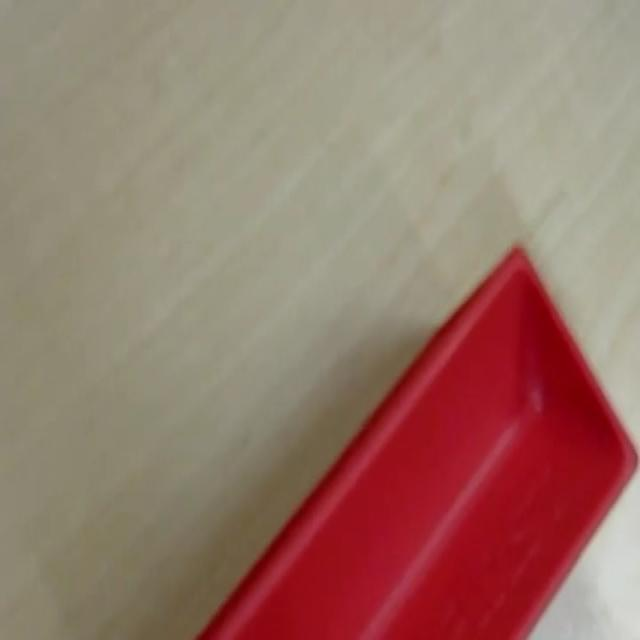red_block: (193, 240, 638, 637)
